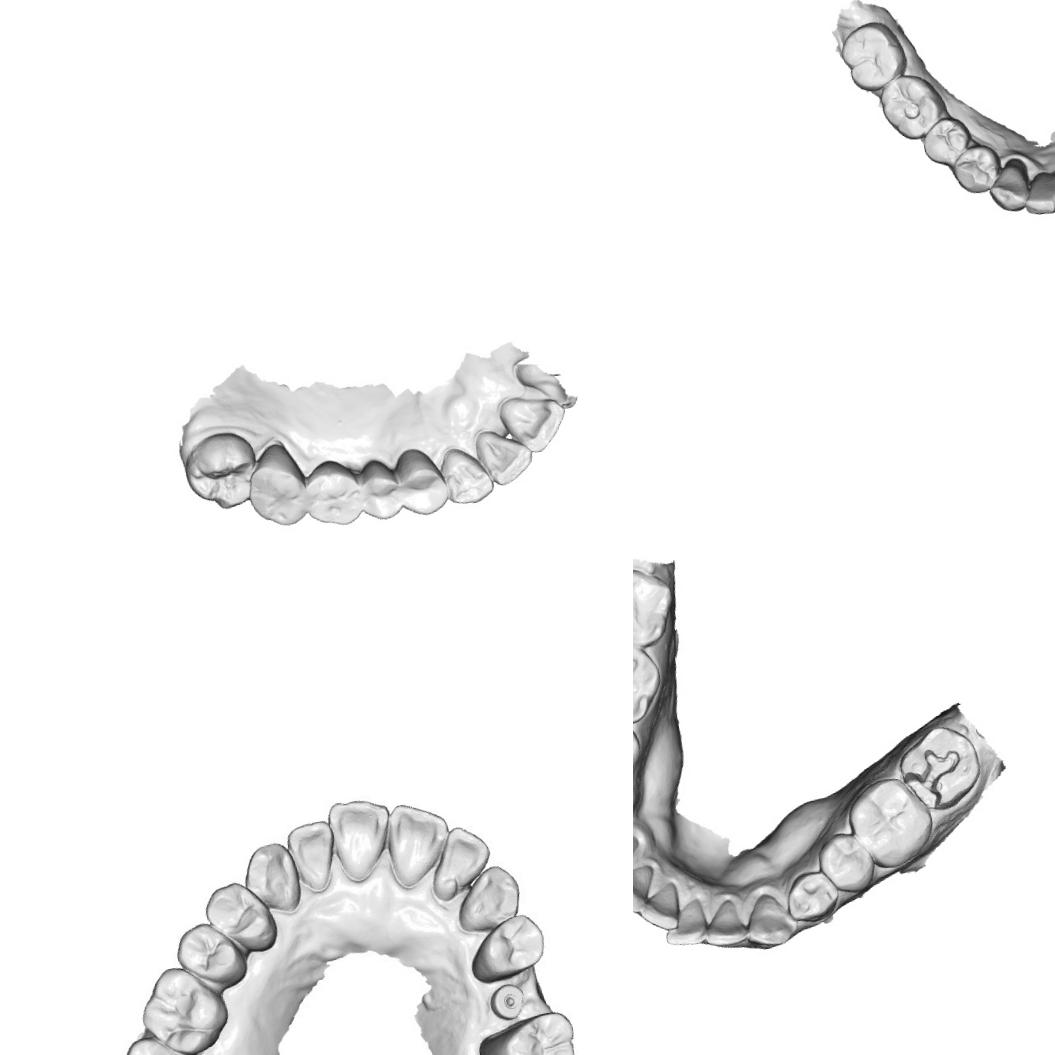canine: (238, 834, 307, 918), (452, 859, 526, 936), (436, 442, 497, 508), (739, 887, 798, 953), (983, 158, 1034, 216)
implant: (483, 977, 531, 1023)
incisor: (375, 798, 455, 890), (323, 792, 396, 888), (423, 820, 498, 902), (495, 387, 572, 458), (282, 818, 340, 898), (470, 420, 536, 489), (696, 894, 751, 954), (656, 894, 714, 950), (633, 878, 685, 936), (1018, 169, 1055, 218), (633, 860, 660, 917)
inlay: (896, 739, 974, 816)
molar: (839, 770, 942, 876), (128, 958, 232, 1055), (176, 424, 262, 516), (239, 436, 312, 532), (836, 15, 911, 96), (477, 1005, 590, 1055), (876, 68, 950, 144), (298, 453, 368, 532), (633, 558, 683, 657), (633, 636, 671, 733), (112, 1024, 207, 1055)
premolar: (168, 913, 252, 998), (197, 875, 279, 960), (462, 910, 552, 986), (811, 826, 879, 900), (390, 442, 451, 519), (778, 865, 846, 926), (917, 110, 975, 170), (355, 455, 404, 524), (948, 140, 1005, 196)
